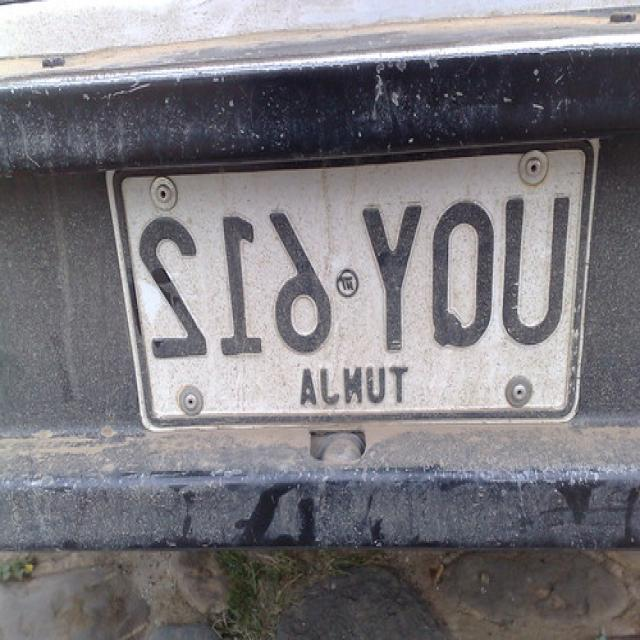placas: (115, 176, 580, 371)
